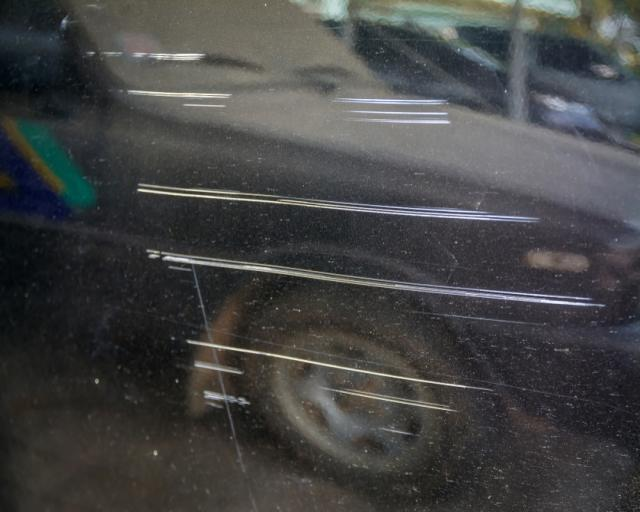scratch: (86, 36, 611, 456)
